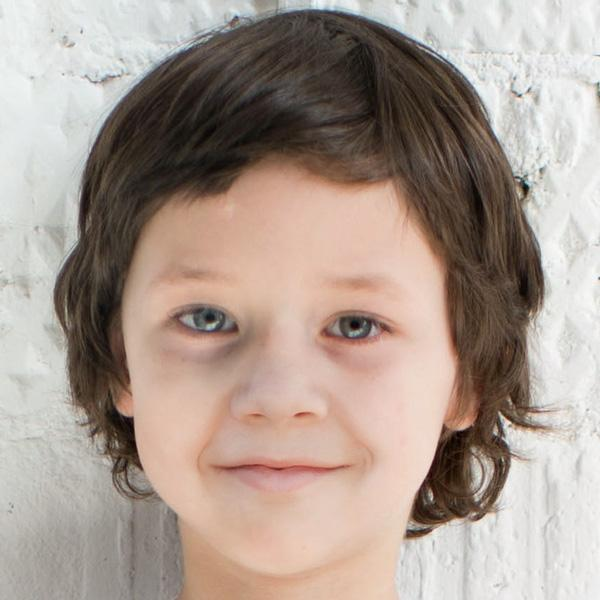Eyes: (309, 302, 399, 354), (160, 294, 246, 348)
